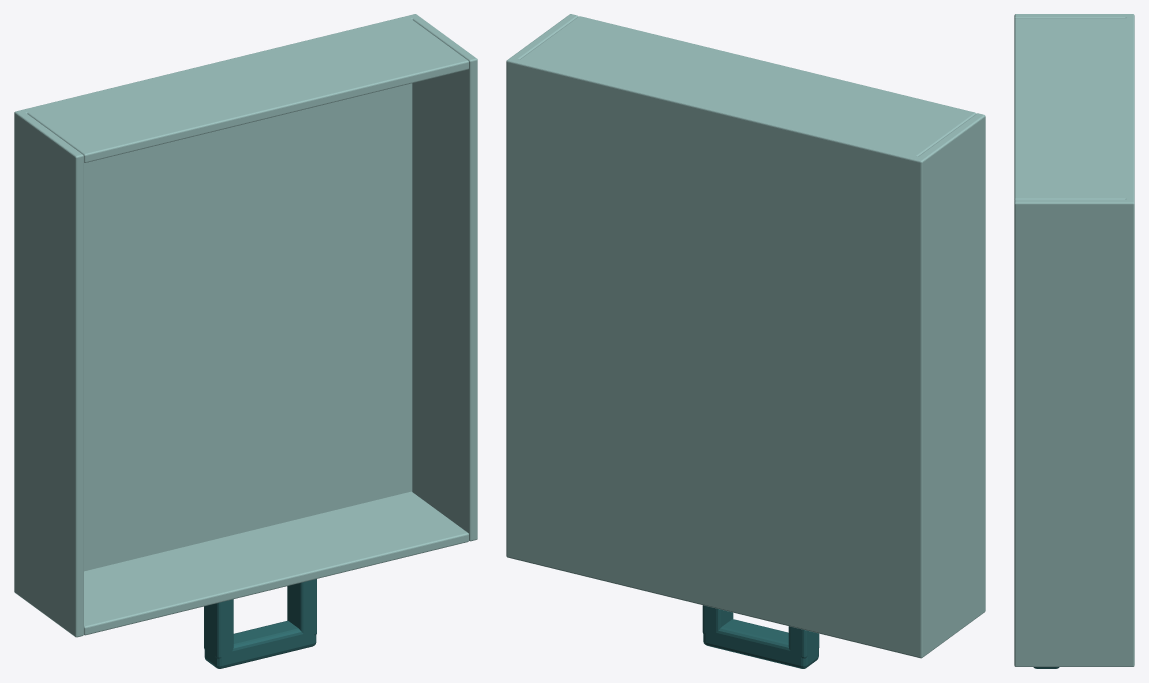
The model's file is bin.glb.
The picture shows the model from 3 angles, left to right: view 1: azimuth 30°, elevation 25°; view 2: azimuth 150°, elevation 25°; view 3: azimuth 270°, elevation 25°; orthographic projection. The views are drawn at different scales.
Visible parts, largest first — view 1: Fastener bin floor, Fastener bin side, Fastener bin side.001, Fastener bin end.001, Fastener bin end, Fastener carrying bar, Fastener handle mount, Fastener handle mount.001; view 2: Fastener bin floor, Fastener bin side, Fastener bin end.001, Fastener carrying bar, Fastener bin end, Fastener bin side.001, Fastener handle mount; view 3: Fastener bin side.001, Fastener bin end.001, Fastener bin floor, Fastener bin side.
Boxes of the visible parts, box(x1,y1,x2,y2) form: Fastener bin floor: box(14, 14, 418, 594); Fastener bin side: box(14, 110, 83, 637); Fastener bin side.001: box(410, 14, 477, 541); Fastener bin end.001: box(24, 16, 468, 162); Fastener bin end: box(84, 491, 468, 635); Fastener carrying bar: box(204, 620, 316, 668); Fastener handle mount: box(204, 599, 233, 658); Fastener handle mount.001: box(287, 579, 316, 635); Fastener bin floor: box(506, 57, 925, 658); Fastener bin side: box(914, 113, 985, 657); Fastener bin end.001: box(516, 16, 976, 166); Fastener carrying bar: box(703, 619, 818, 668); Fastener bin end: box(516, 553, 911, 655); Fastener bin side.001: box(506, 14, 578, 556); Fastener handle mount: box(788, 626, 819, 658); Fastener bin side.001: box(1014, 199, 1134, 666); Fastener bin end.001: box(1014, 18, 1134, 200); Fastener bin floor: box(1125, 14, 1134, 666); Fastener bin side: box(1014, 14, 1133, 18).
Size of the model in its own units: 0.28 by 0.371 by 0.075.
